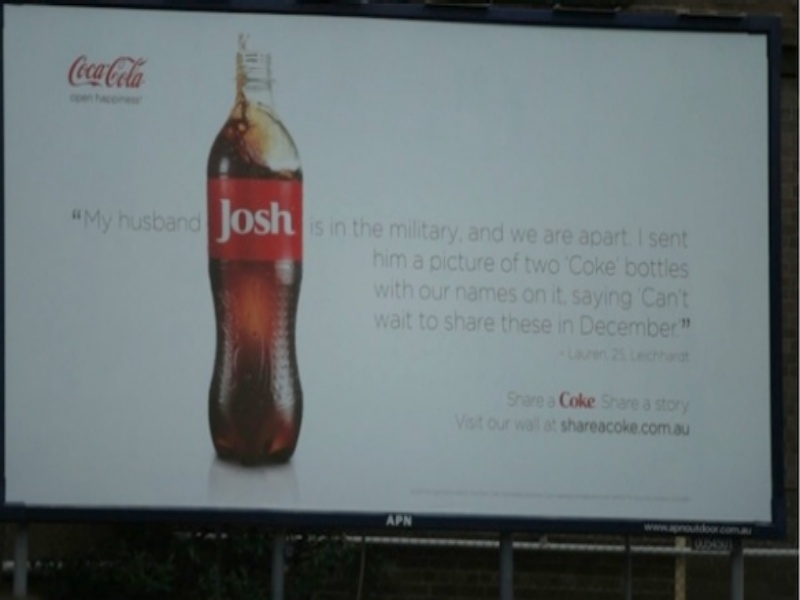Plastic bottle: (170, 51, 325, 478)
